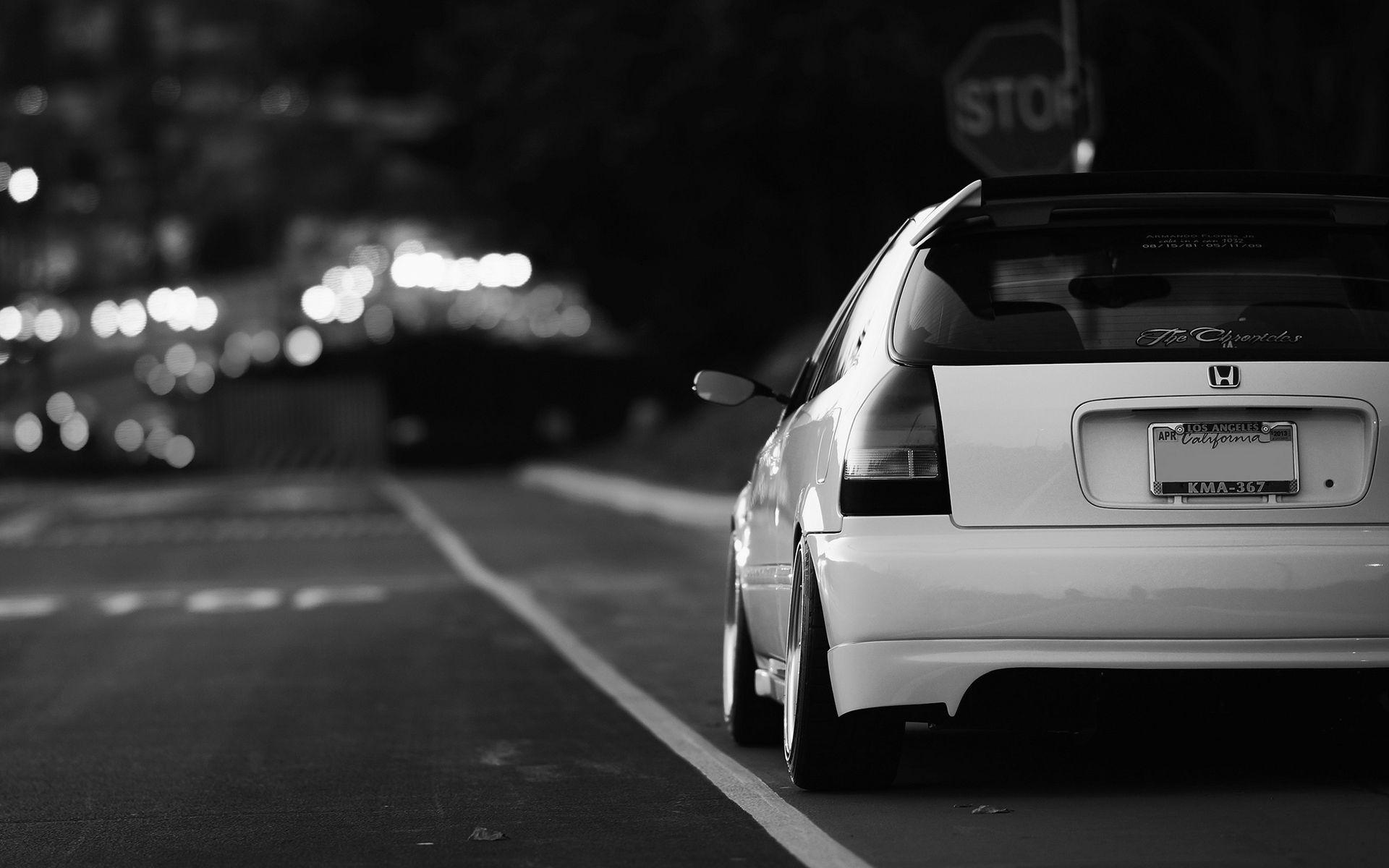Car boot: (906, 162, 1389, 540)
Rear bumper: (790, 517, 1389, 732)
Rear light - -L-: (833, 360, 954, 524)
Side mirror - -L-: (689, 365, 805, 428)
